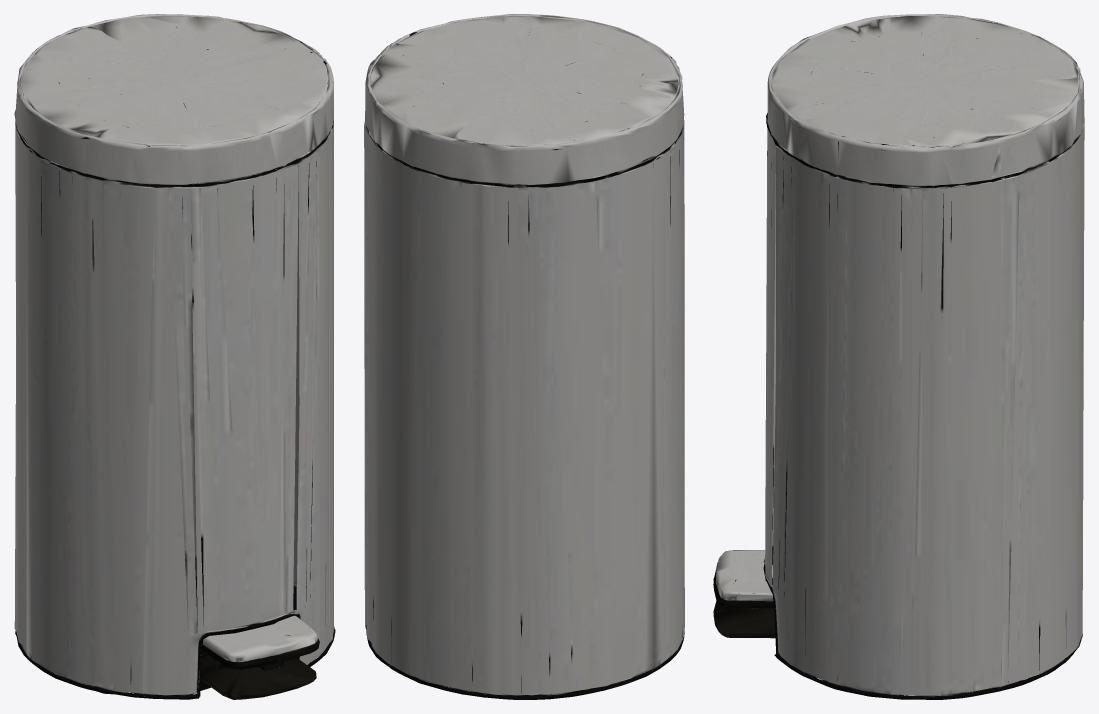
File: mobile.glb
The picture shows the model from 3 angles, left to right: view 1: azimuth 30°, elevation 25°; view 2: azimuth 150°, elevation 25°; view 3: azimuth 270°, elevation 25°; orthographic projection.
Parts seen in each view (by area): view 1: trashcan; view 2: trashcan; view 3: trashcan.
Boxes of the visible parts, <box> form: trashcan: <box>14,14,335,699</box>; trashcan: <box>364,14,684,699</box>; trashcan: <box>713,14,1084,699</box>.
Bounding box in the file's own units: 0.3428 × 0.6498 × 0.3955.
1 material, 1 textured.
